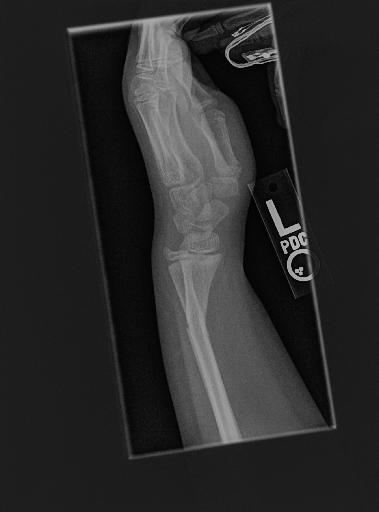fractured: (179, 314, 210, 336)
